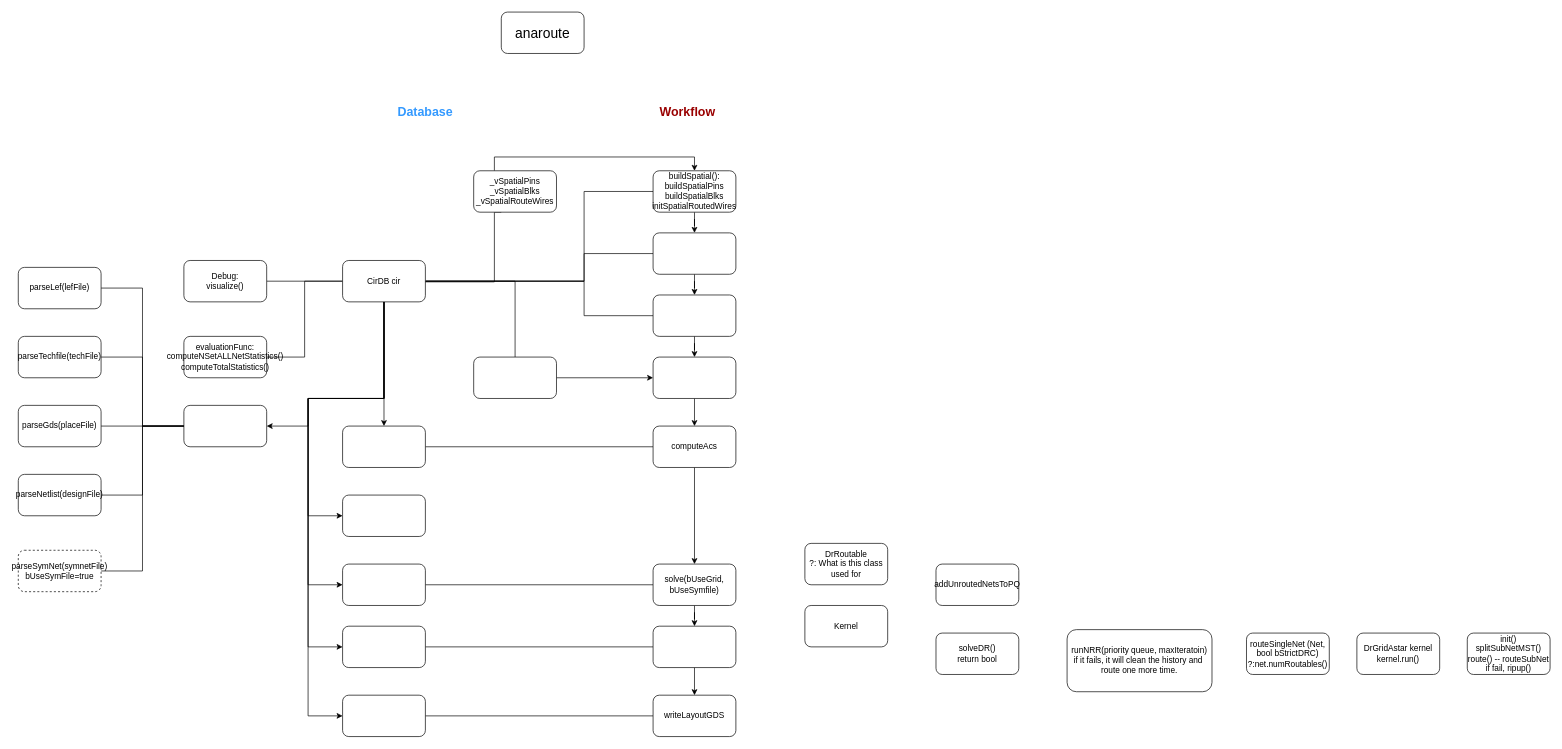
Image size: 1562x749. Some labels were removed from this diagram. The shapes that lost their labels are listed below. From the top down, each one's centre as x and y in pixels, then its label:
At [694,253]: "markBlks()".
At [694,315]: "checkfunc: checkNetSymSelfSym".
At [514,377]: "_vvSpatialNetGuides".
At [694,377]: "buildSpatialNetGuides()".
At [225,426]: "Parser(cir)".
At [383,446]: "AcsMgr(cir)".
At [383,515]: "DrcMgr(cir)".
At [383,584]: "DrMgr(cir)".
At [383,646]: "PostMgr(cir)".
At [694,646]: "PostMgr".
At [383,715]: "Writer(cir)".
